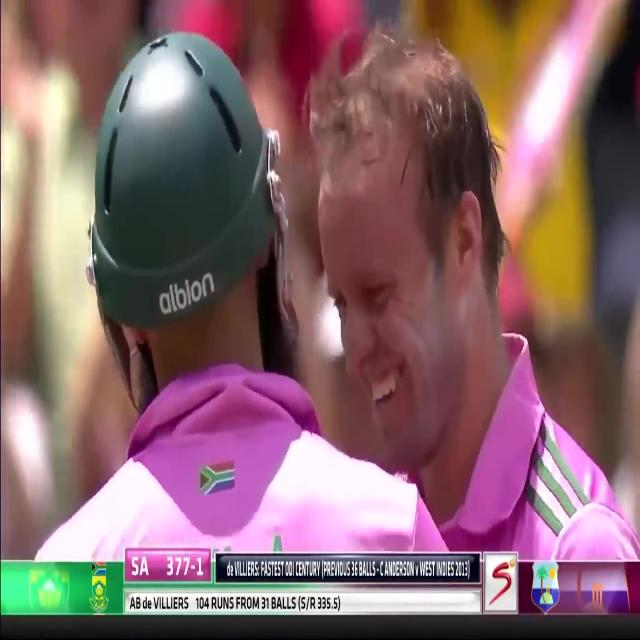Ball: (17, 24, 458, 561)
